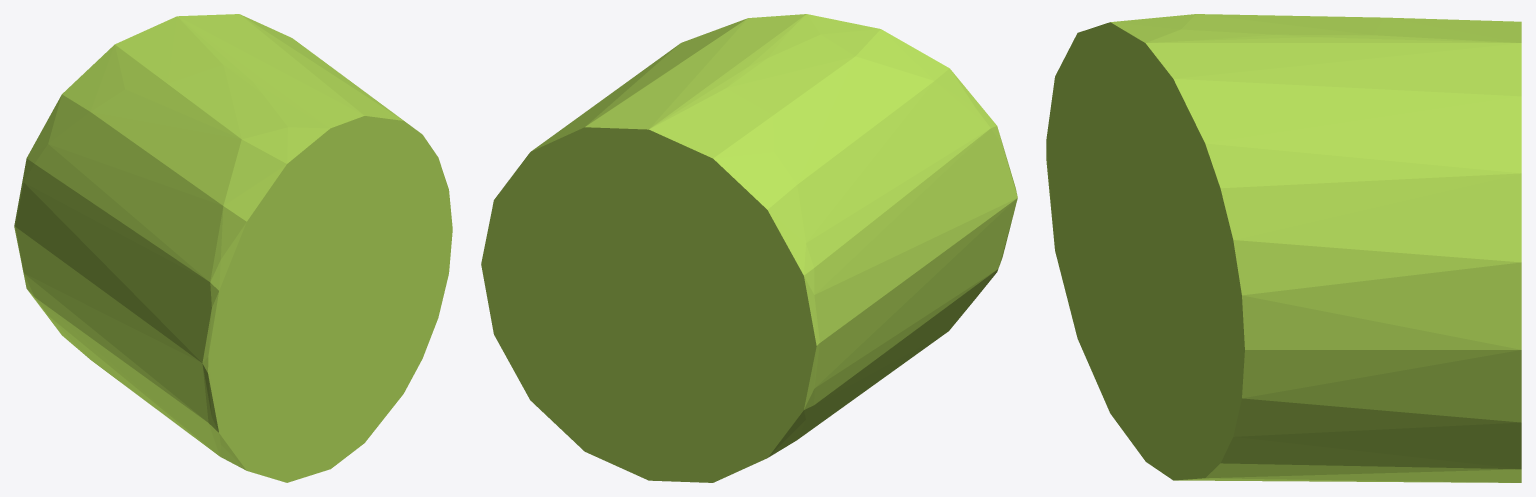
Rendered from industrial_06397_link_respondable_respondable_respondable_respondable_respondable_respondable_coll_2.dae.
The picture shows the model from 3 angles, left to right: view 1: azimuth 30°, elevation 25°; view 2: azimuth 150°, elevation 25°; view 3: azimuth 270°, elevation 25°; orthographic projection. The views are drawn at different scales.
Parts seen in each view (by area): view 1: node; view 2: node; view 3: node.
Boxes of the visible parts, x1=… form: node: x1=14, y1=14, x2=452, y2=482; node: x1=481, y1=14, x2=1017, y2=482; node: x1=1046, y1=14, x2=1521, y2=482.
Size of the model in its own units: 0.1173 by 0.116 by 0.1195.
